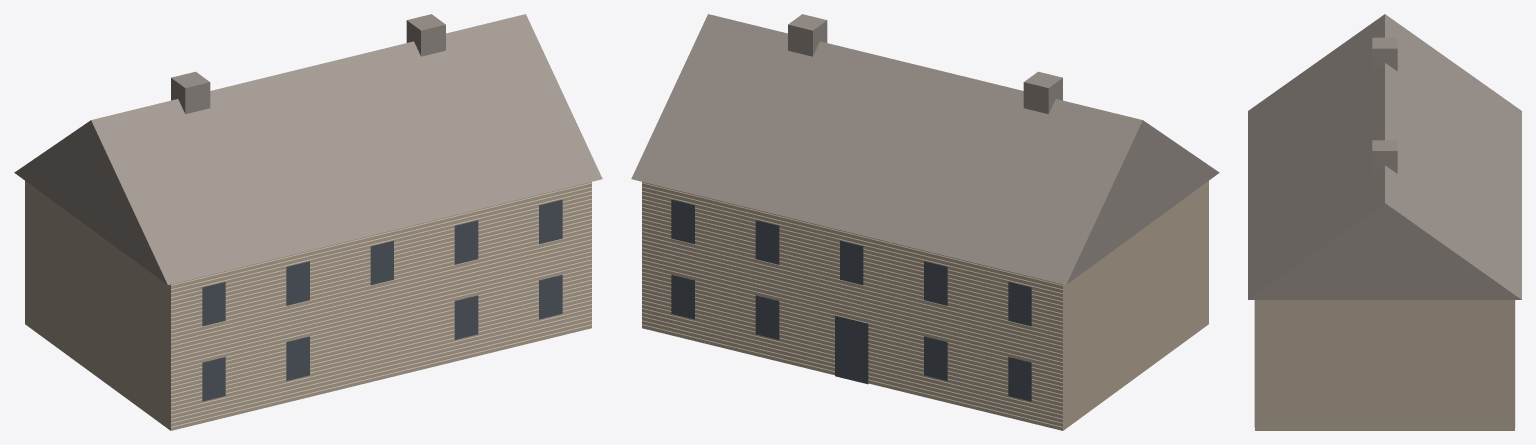
File: tremont_house_1__frame_1833.glb
The picture shows the model from 3 angles, left to right: view 1: azimuth 30°, elevation 25°; view 2: azimuth 150°, elevation 25°; view 3: azimuth 270°, elevation 25°; orthographic projection. The views are drawn at different scales.
Visible parts, largest first — view 1: tremont_house_1__frame_1833; view 2: tremont_house_1__frame_1833; view 3: tremont_house_1__frame_1833.
Boxes of the visible parts, x1,y1,x2,y2 form: tremont_house_1__frame_1833: (14, 14, 602, 430); tremont_house_1__frame_1833: (631, 14, 1219, 430); tremont_house_1__frame_1833: (1248, 14, 1521, 430).
Size of the model in its own units: 15.74 by 9.52 by 9.64.
